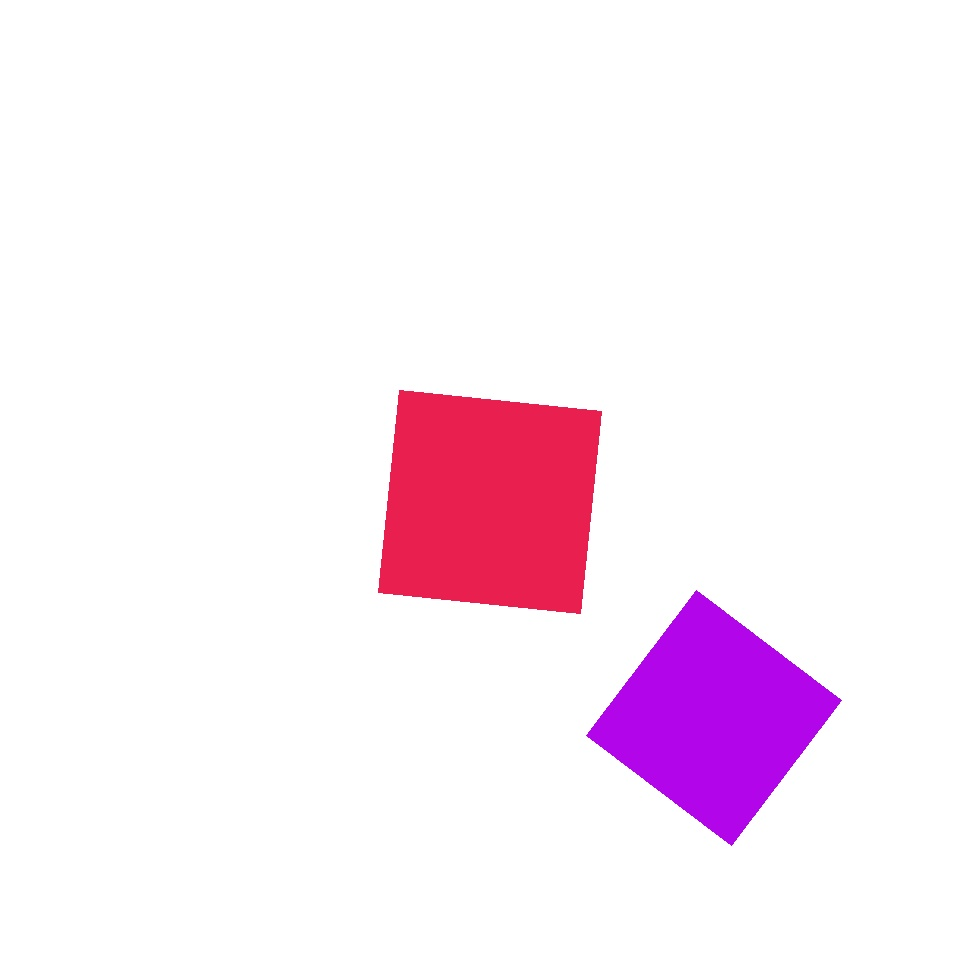circle: (518, 602, 794, 856), (68, 321, 304, 549)
square: (564, 368, 854, 656), (586, 590, 842, 846), (378, 390, 601, 614), (377, 760, 468, 850)
